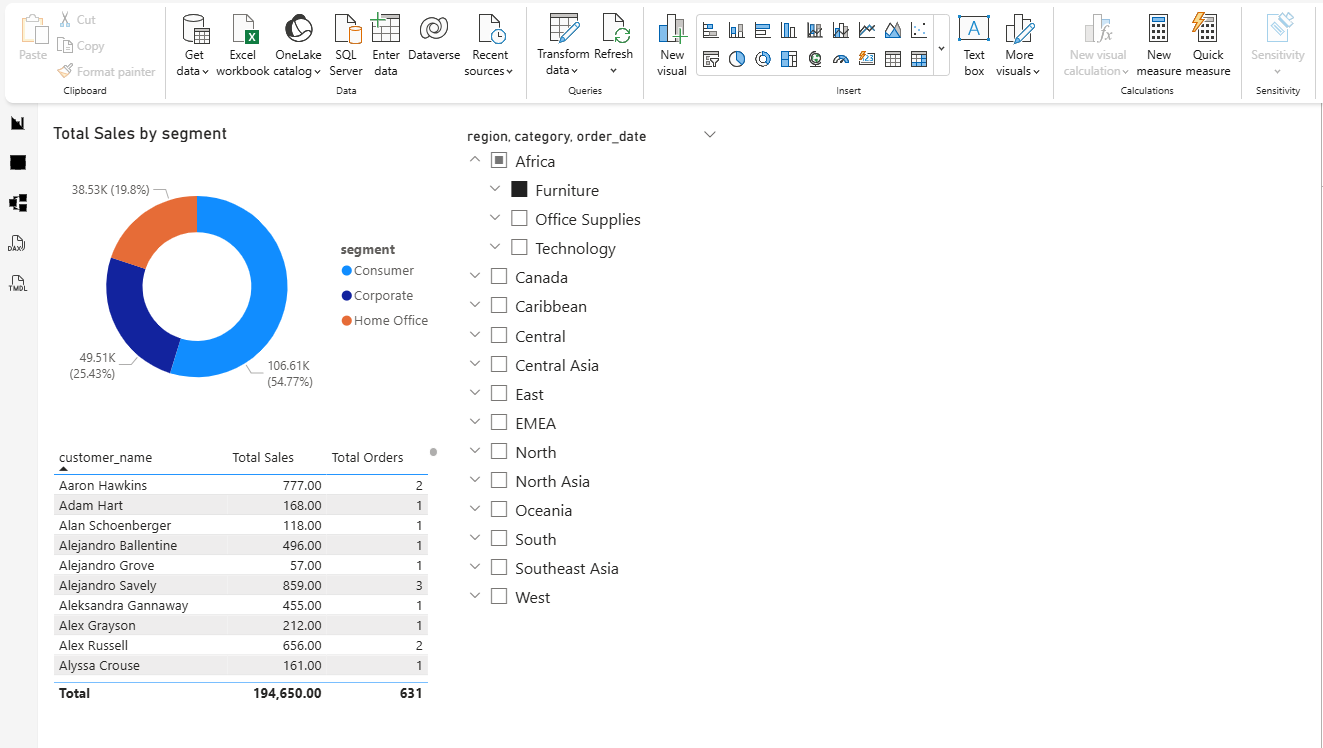

The dashboard page shown, as its layout file describes it:
{"tool":"powerbi","page":{"name":"Page 2","canvas":[1280,720],"ordinal":1},"visuals":[{"type":"donutChart","fields":{"Category":["SuperStoreOrders.segment"],"Y":["SuperStoreOrders.Total Sales"]},"box":[10,20,394.1,307.3],"z":0},{"type":"tableEx","fields":{"Values":["SuperStoreOrders.customer_name","SuperStoreOrders.Total Sales","SuperStoreOrders.Total Orders"]},"box":[10.5,338,393.8,263.7],"z":1},{"type":"slicer","fields":{"Values":["SuperStoreOrders.region","SuperStoreOrders.category","SuperStoreOrders.order_date"]},"box":[415,20,274.4,581.6],"z":2}]}

Visuals, with their boxes on the page's 1280x720 design canvas (x1, y1, x2, y2). These are canvas units, not pixel positions in the 1323x748 screenshot, which may show the page scaled, cropped or inside an application window:
donutChart - SuperStoreOrders.segment x SuperStoreOrders.Total Sales: detection(10, 20, 404, 327)
tableEx - SuperStoreOrders.customer_name x SuperStoreOrders.Total Sales: detection(10, 338, 404, 602)
slicer - SuperStoreOrders.region x SuperStoreOrders.category: detection(415, 20, 689, 602)
